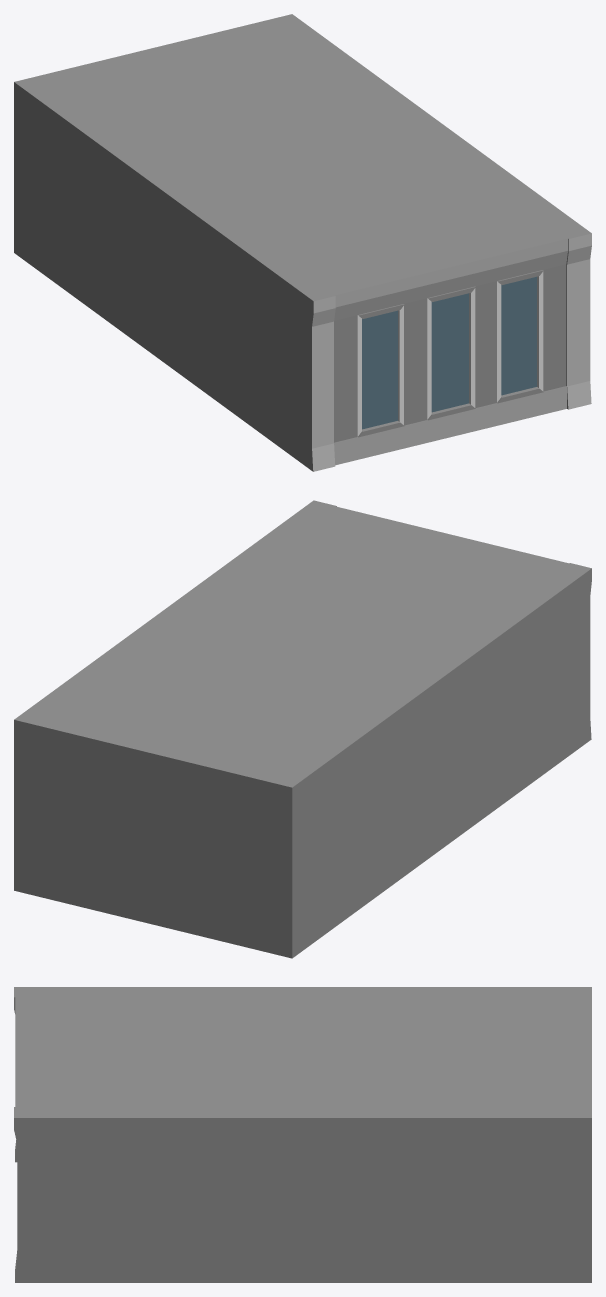
The model's file is Floor.fbx.
The picture shows the model from 3 angles, top to bottom: view 1: azimuth 30°, elevation 25°; view 2: azimuth 150°, elevation 25°; view 3: azimuth 270°, elevation 25°; orthographic projection. The views are drawn at different scales.
Parts seen in each view (by area): view 1: floor; view 2: floor; view 3: floor.
Part boxes in pixels (left/top/right/bottom): floor: left=14, top=14, right=591, bottom=471; floor: left=14, top=500, right=591, bottom=958; floor: left=14, top=987, right=591, bottom=1282.
Bounding box in the file's own units: 479 × 281 × 894.
